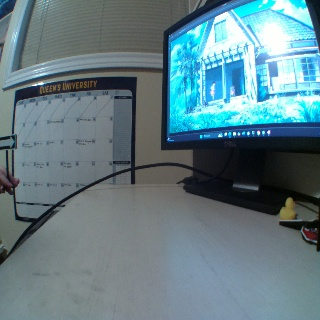sign_oneway_right: (0, 135, 17, 150)
